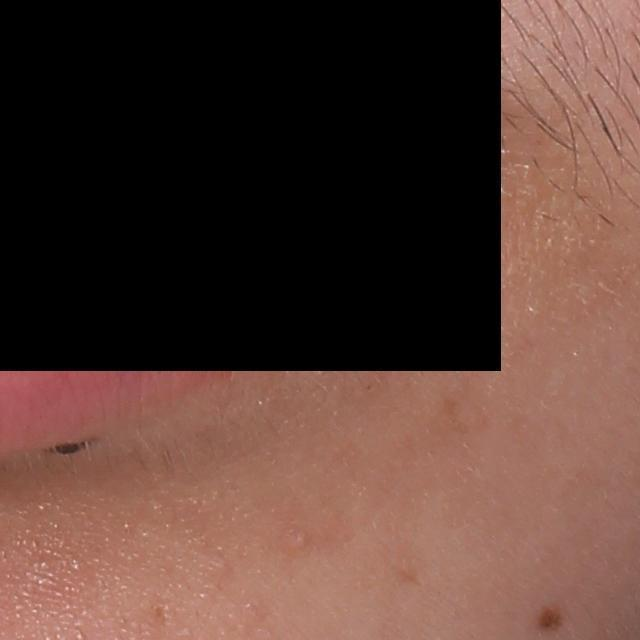nevus: (535, 603, 565, 632)
